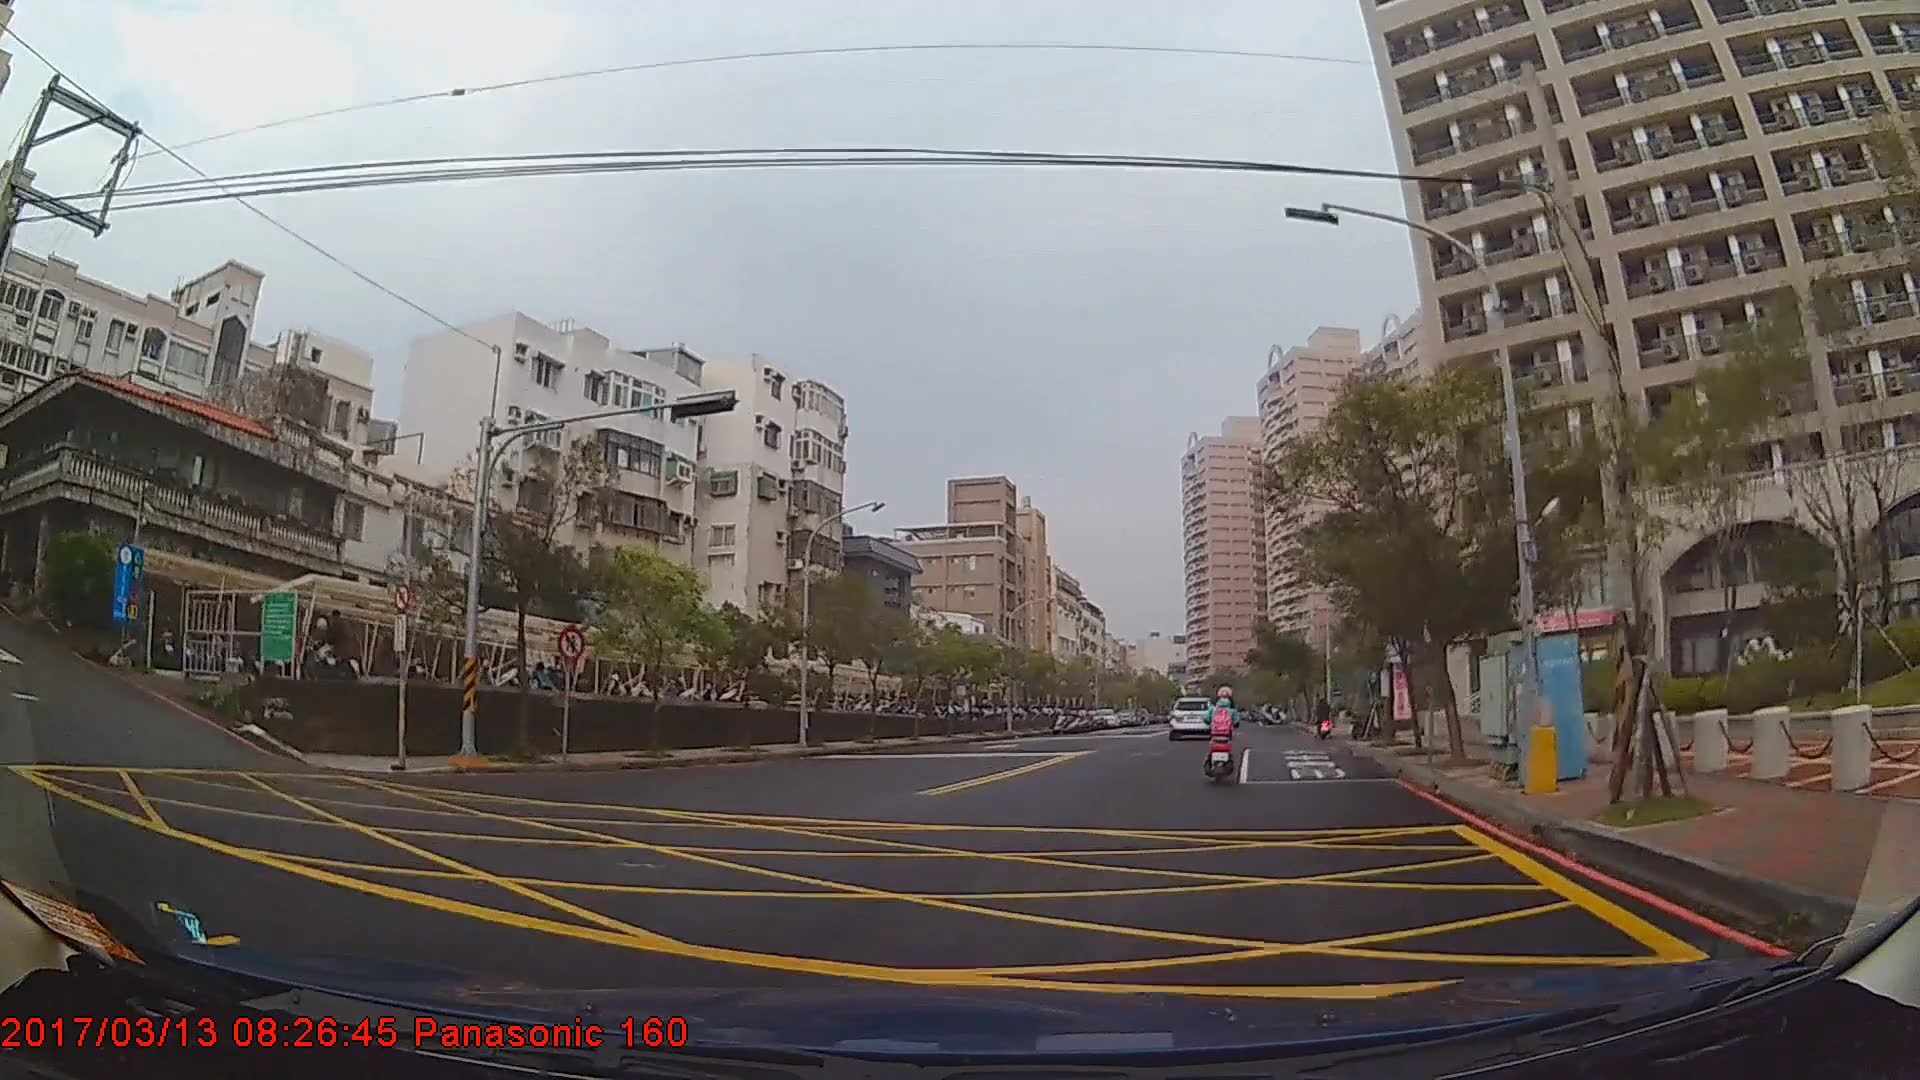rider: (1201, 682, 1245, 783)
vehicle: (1168, 692, 1213, 737)
